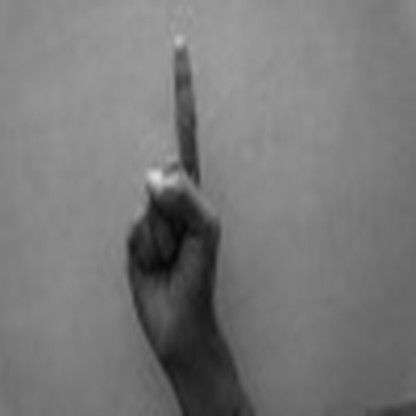d: (105, 26, 228, 353)
